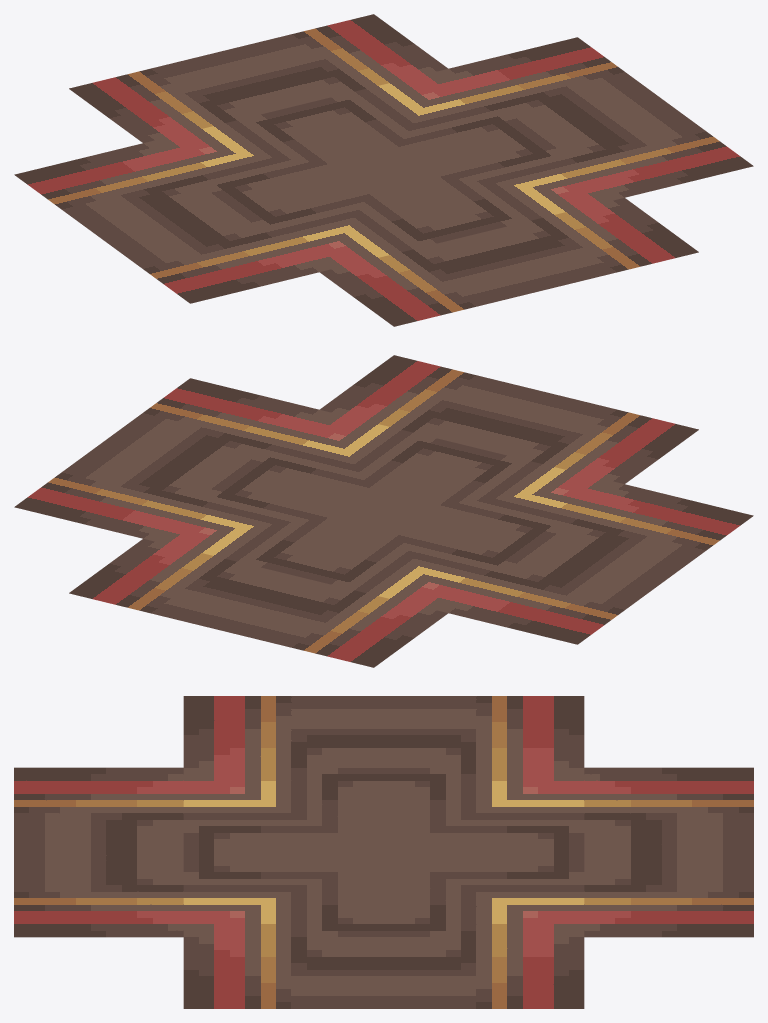
Rendered from carpet_cross.gltf.
3 views of the same model, one above another, from view 1: azimuth 30°, elevation 25°; view 2: azimuth 150°, elevation 25°; view 3: azimuth 270°, elevation 25° (orthographic). The views are drawn at different scales.
Visible parts, largest first — view 1: cube (×3); view 2: cube (×3); view 3: cube (×3).
Part boxes in pixels (x1=…): cube (×3): x1=14, y1=14, x2=753, y2=326; cube (×3): x1=14, y1=355, x2=753, y2=667; cube (×3): x1=14, y1=696, x2=753, y2=1008.
Size of the model in its own units: 3 by 6.25e-05 by 3.
Materials: 1 (1 with a texture image).
